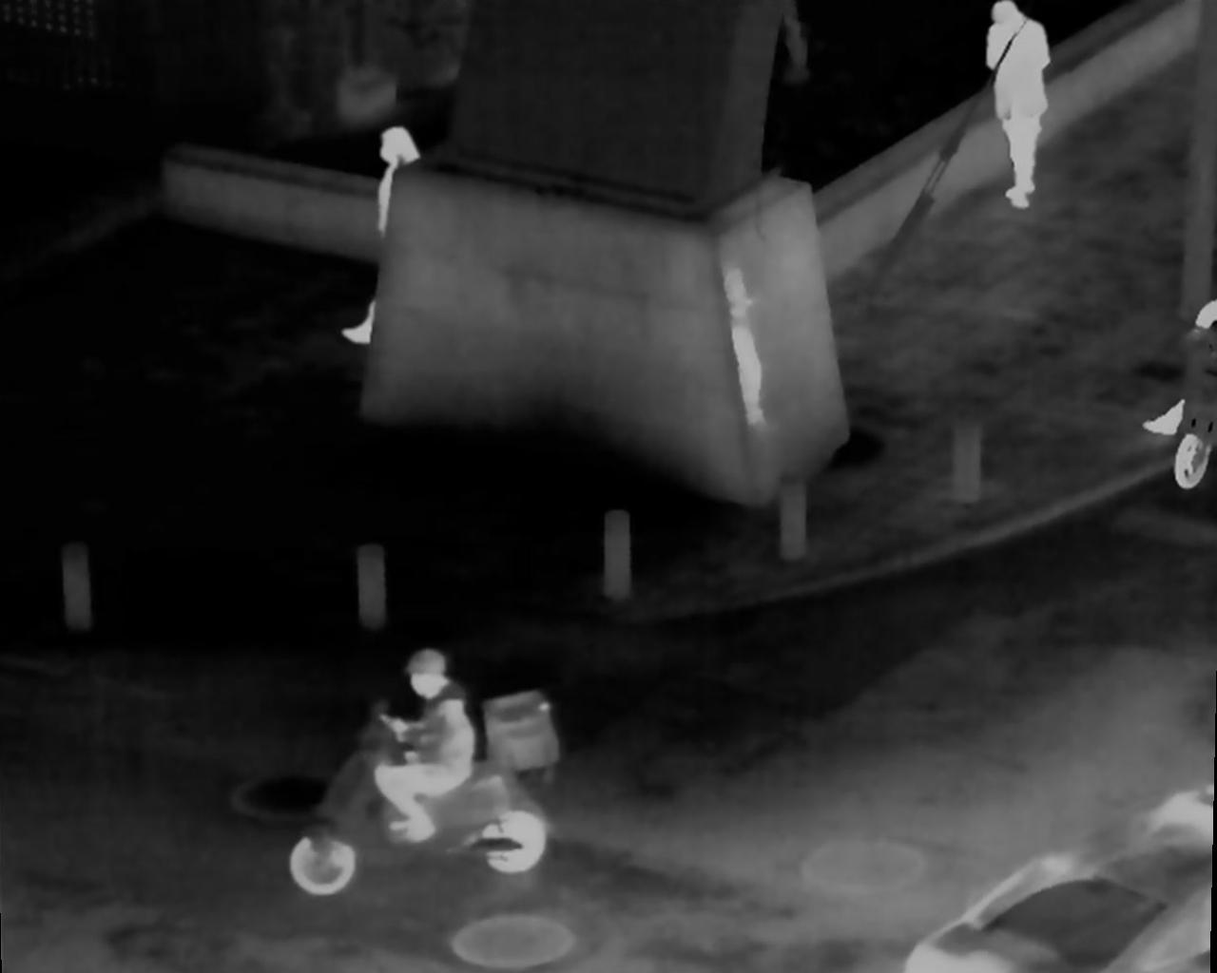person: (346, 117, 457, 350), (365, 654, 490, 845)
